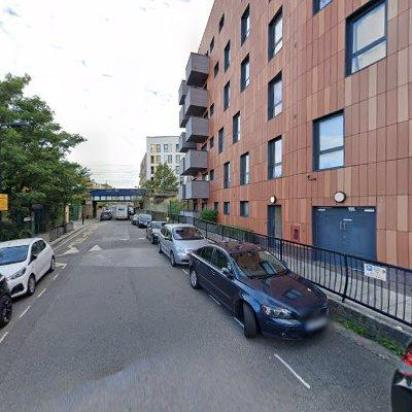moving-heavy-truck: (115, 202, 129, 220)
stationary-car-onstreet: (187, 242, 332, 342), (0, 236, 56, 298), (157, 223, 209, 267), (390, 330, 412, 412), (0, 269, 12, 329), (148, 219, 168, 243), (100, 210, 112, 222), (131, 214, 137, 226)
stationary-light-truck-onstreet: (138, 213, 152, 229)
